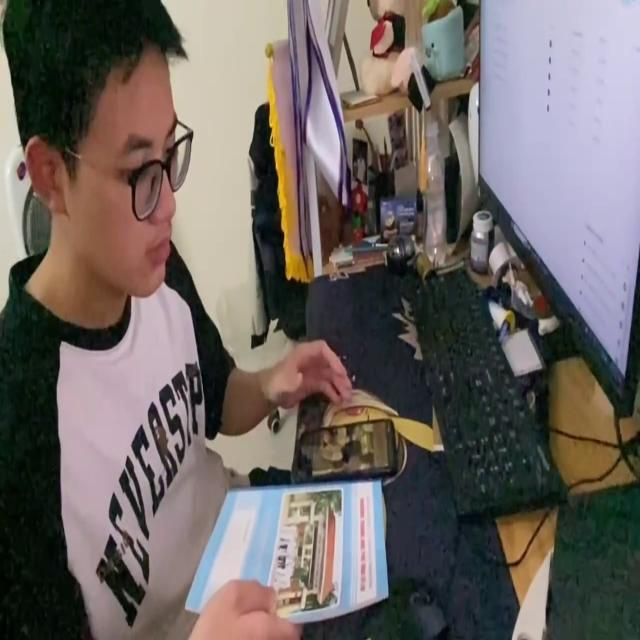book: (186, 478, 392, 630)
laptop: (479, 0, 640, 420)
phone: (294, 411, 402, 483)
student: (1, 0, 351, 640)
